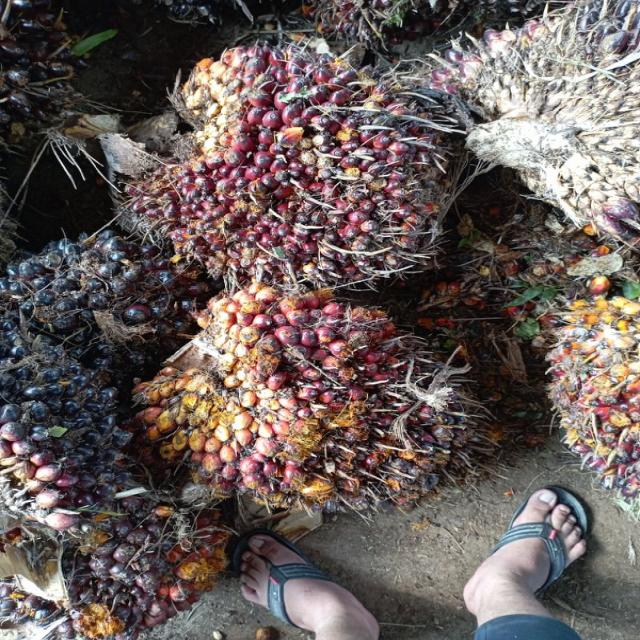fraksi 00: (9, 232, 169, 350)
fraksi 1: (145, 289, 489, 513), (148, 38, 433, 286)
